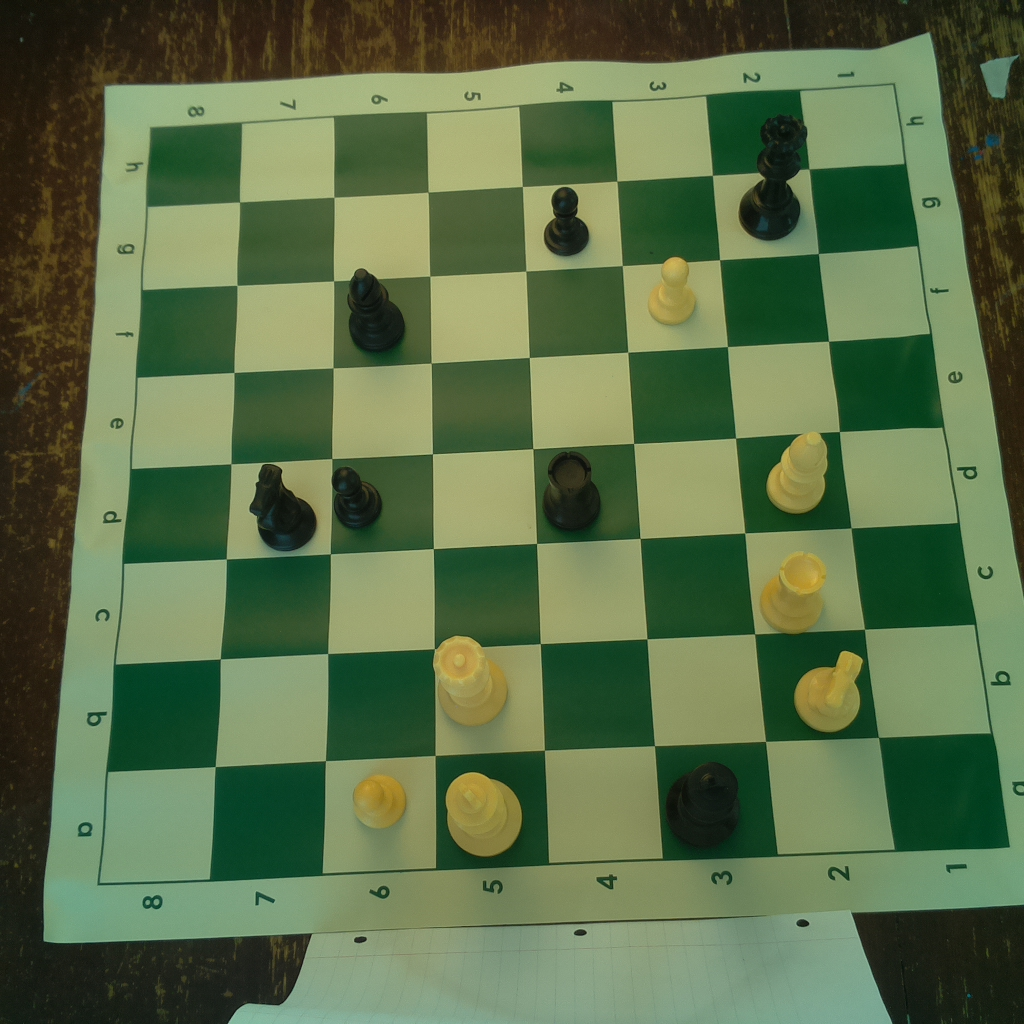black_bishop: (341, 266, 406, 356)
black_king: (658, 757, 750, 851)
black_knight: (238, 456, 319, 554)
black_pawn: (533, 184, 597, 258), (328, 462, 390, 531)
black_queen: (738, 110, 807, 241)
black_rook: (542, 448, 603, 531)
file_a: (97, 734, 1008, 884)
file_b: (107, 622, 996, 771)
file_c: (114, 522, 980, 665)
file_d: (123, 427, 958, 566)
file_e: (131, 332, 946, 467)
file_f: (138, 244, 931, 377)
file_g: (144, 165, 919, 291)
file_h: (146, 84, 906, 206)
outline: (93, 82, 1012, 884)
rank_1: (799, 83, 1011, 856)
rank_2: (707, 91, 894, 856)
rank_3: (611, 93, 780, 860)
rank_4: (519, 100, 664, 858)
rank_5: (427, 104, 551, 871)
rank_6: (318, 110, 438, 873)
rank_7: (211, 118, 333, 880)
rank_8: (98, 122, 242, 887)
white_bishop: (762, 430, 834, 514)
white_king: (440, 767, 524, 858)
white_knight: (789, 645, 867, 735)
white_pawn: (646, 251, 701, 330), (353, 769, 411, 834)
white_queen: (428, 630, 511, 730)
white_rook: (754, 547, 832, 636)
